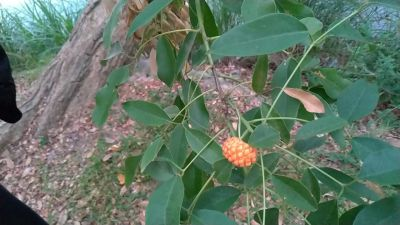eggs: (222, 130, 264, 165)
